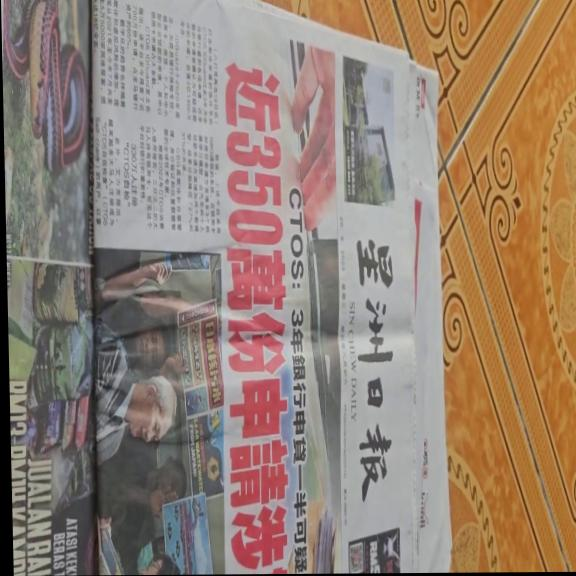Kertas: (98, 73, 448, 567)
